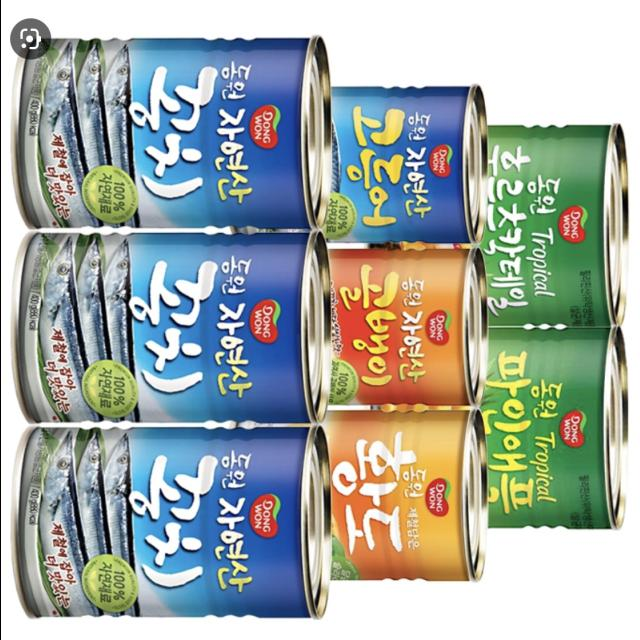can: (9, 424, 346, 630), (7, 222, 342, 427), (473, 328, 639, 540), (479, 114, 640, 328), (316, 406, 502, 584), (329, 76, 501, 250), (326, 247, 498, 404)
